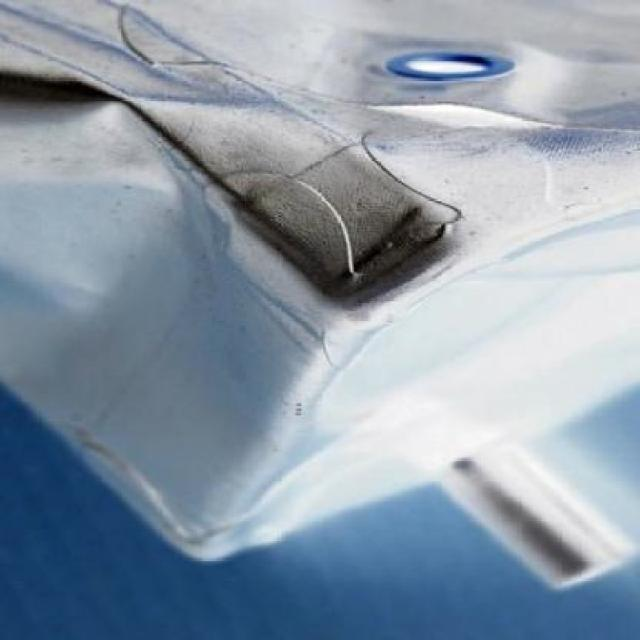crack: (291, 183, 373, 283)
